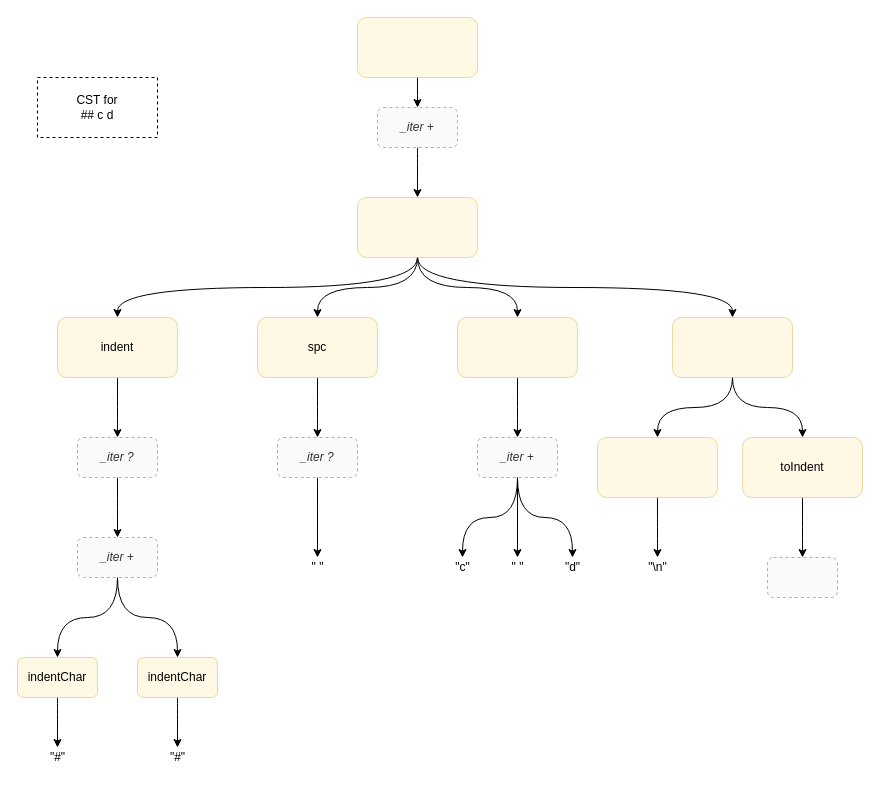
Some shapes in this 880 by 785 pixel diagram are drawn without their labels. The shapes that lost their labels are listed below. From the top down, each one's centre as x and y in pixels, then its label:
[417,47]: main
[417,227]: line
[517,347]: toEOL
[732,347]: linetail_withContent
[657,467]: newline
[802,577]: _iter ?*
